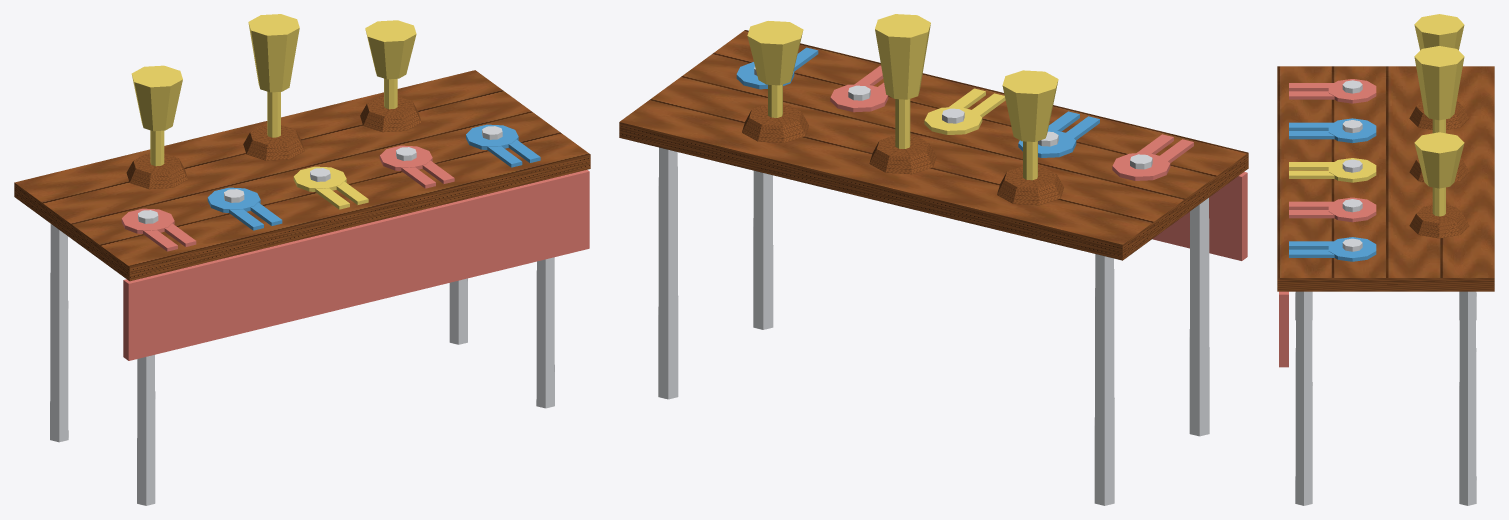
File: dog-agility-and-training-field-rosette-and-trophy-tabl-e70911a3.glb
The picture shows the model from 3 angles, left to right: view 1: azimuth 30°, elevation 25°; view 2: azimuth 150°, elevation 25°; view 3: azimuth 270°, elevation 25°; orthographic projection. The views are drawn at different scales.
Parts seen in each view (by area): view 1: rosette-and-trophy-table-timber, rosette-and-trophy-table-poppy, rosette-and-trophy-table-steel, rosette-and-trophy-table-sunflower, rosette-and-trophy-table-azure; view 2: rosette-and-trophy-table-timber, rosette-and-trophy-table-steel, rosette-and-trophy-table-sunflower, rosette-and-trophy-table-poppy, rosette-and-trophy-table-azure; view 3: rosette-and-trophy-table-timber, rosette-and-trophy-table-steel, rosette-and-trophy-table-sunflower, rosette-and-trophy-table-poppy, rosette-and-trophy-table-azure.
Boxes of the visible parts, bbox=[...] form: rosette-and-trophy-table-timber: bbox=[14, 70, 590, 281]; rosette-and-trophy-table-poppy: bbox=[121, 145, 589, 360]; rosette-and-trophy-table-steel: bbox=[50, 126, 554, 505]; rosette-and-trophy-table-sunflower: bbox=[131, 14, 416, 209]; rosette-and-trophy-table-azure: bbox=[207, 124, 540, 230]; rosette-and-trophy-table-timber: bbox=[619, 30, 1248, 260]; rosette-and-trophy-table-steel: bbox=[658, 67, 1209, 505]; rosette-and-trophy-table-sunflower: bbox=[747, 14, 1058, 180]; rosette-and-trophy-table-poppy: bbox=[830, 65, 1247, 260]; rosette-and-trophy-table-azure: bbox=[736, 47, 1099, 157]; rosette-and-trophy-table-timber: bbox=[1277, 66, 1494, 291]; rosette-and-trophy-table-steel: bbox=[1295, 80, 1476, 505]; rosette-and-trophy-table-sunflower: bbox=[1289, 14, 1464, 216]; rosette-and-trophy-table-poppy: bbox=[1279, 79, 1376, 367]; rosette-and-trophy-table-azure: bbox=[1289, 118, 1376, 261].
Size of the model in its own units: 1.5 by 1.17 by 0.6499.
Materials: 5 (1 with a texture image).
